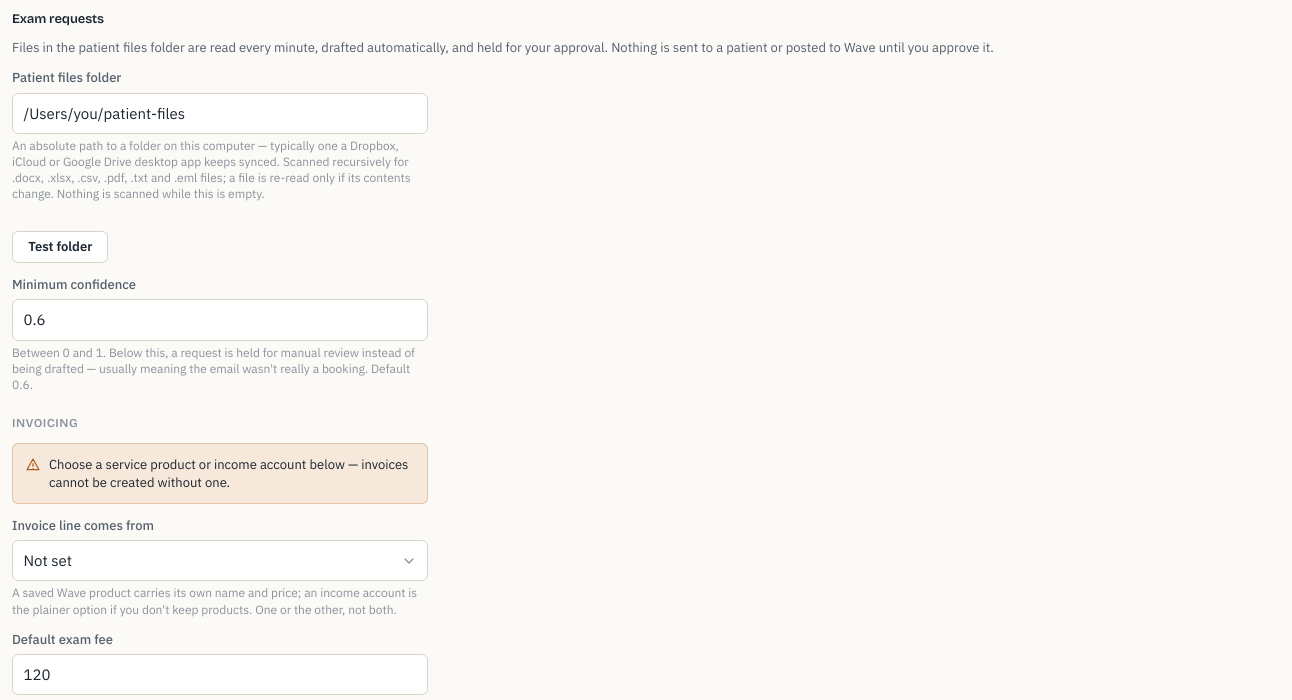
Test: ExamSettings › tests the folder and reports what it found
Step 1. Click the button "Test folder" → coordinates (60, 247), box 12,231 -> 108,263
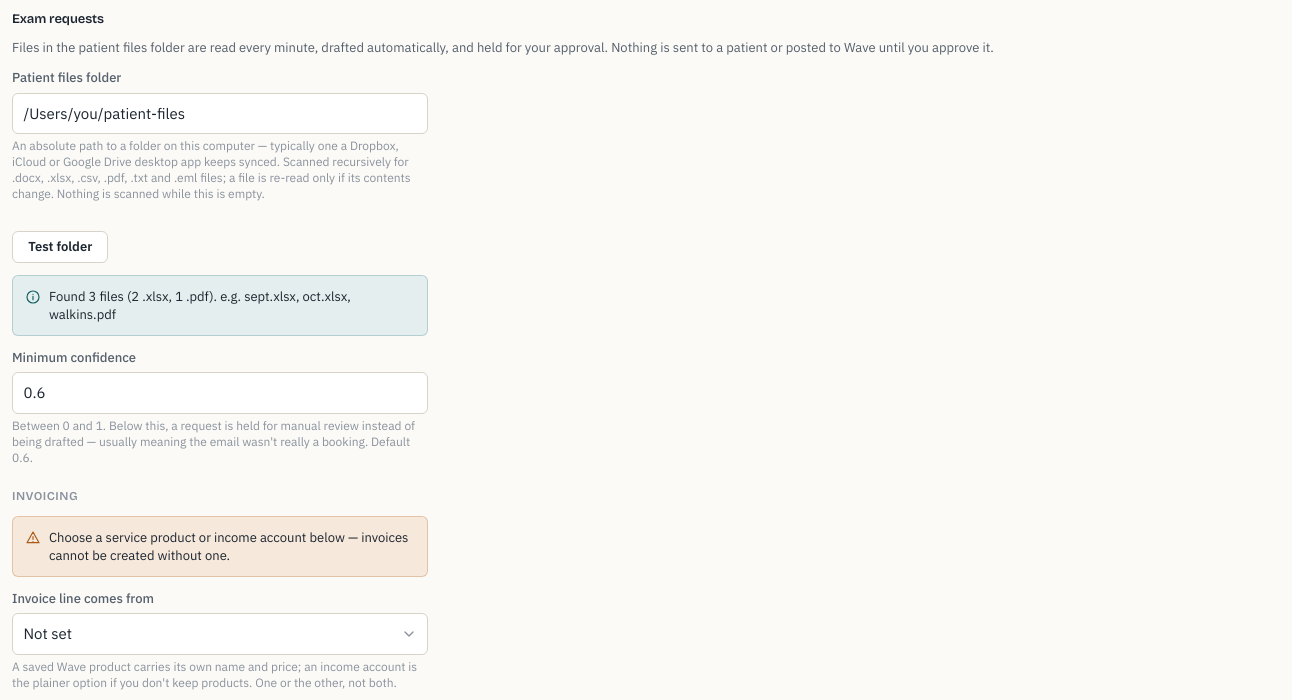
Now the text "Found 3 files" is shown, box 49,288 -> 351,323
